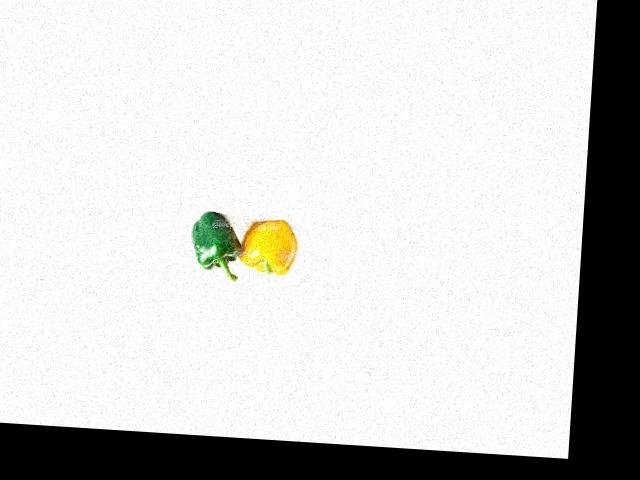bell_pepper: (184, 202, 243, 275)
